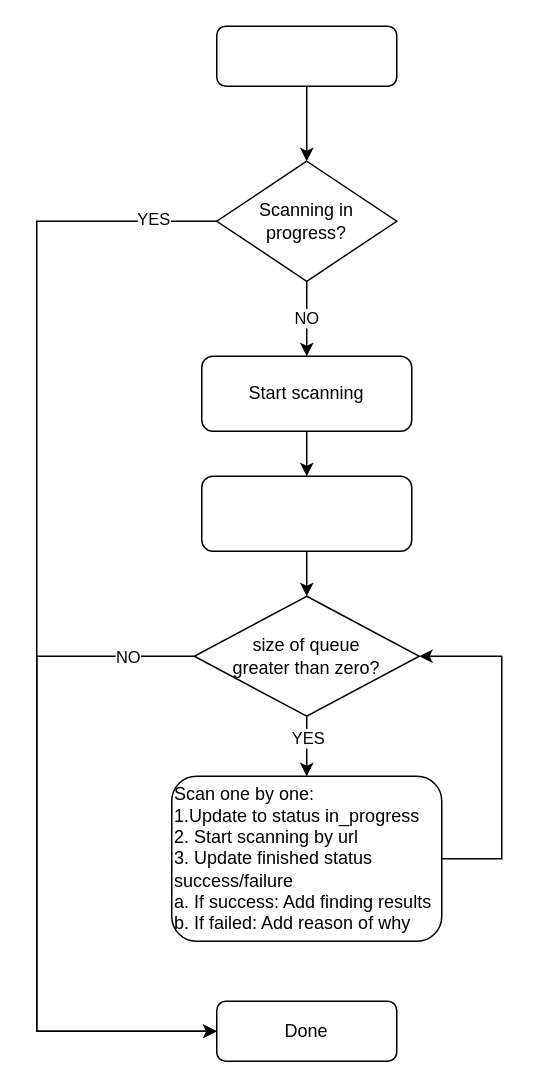
The diagram is 540 pixels wide and 1088 high, and some of its shapes have lost their labels. Here are the shapes that lost their labels. From the top down, the centre of each, then its label:
At (x=306, y=55): "Register a scan".
At (x=306, y=513): "Get scanning queue (status: queued) from table scannings".
